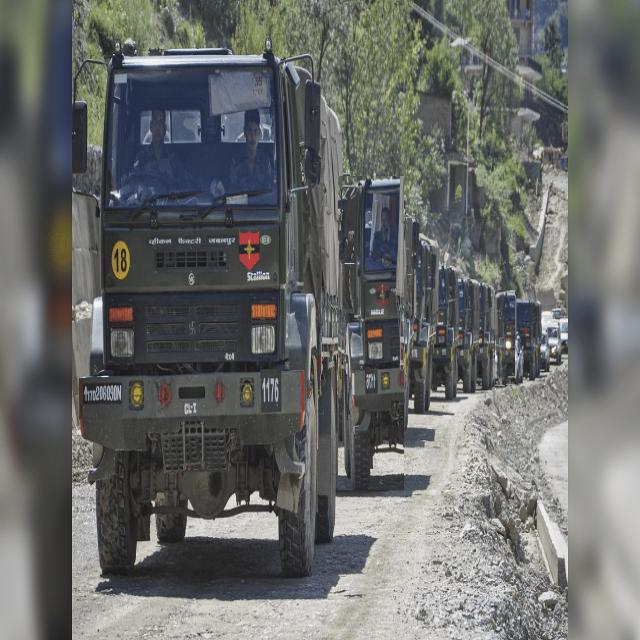truck: (79, 41, 348, 576), (339, 176, 404, 490), (516, 301, 540, 380), (496, 291, 515, 385)
